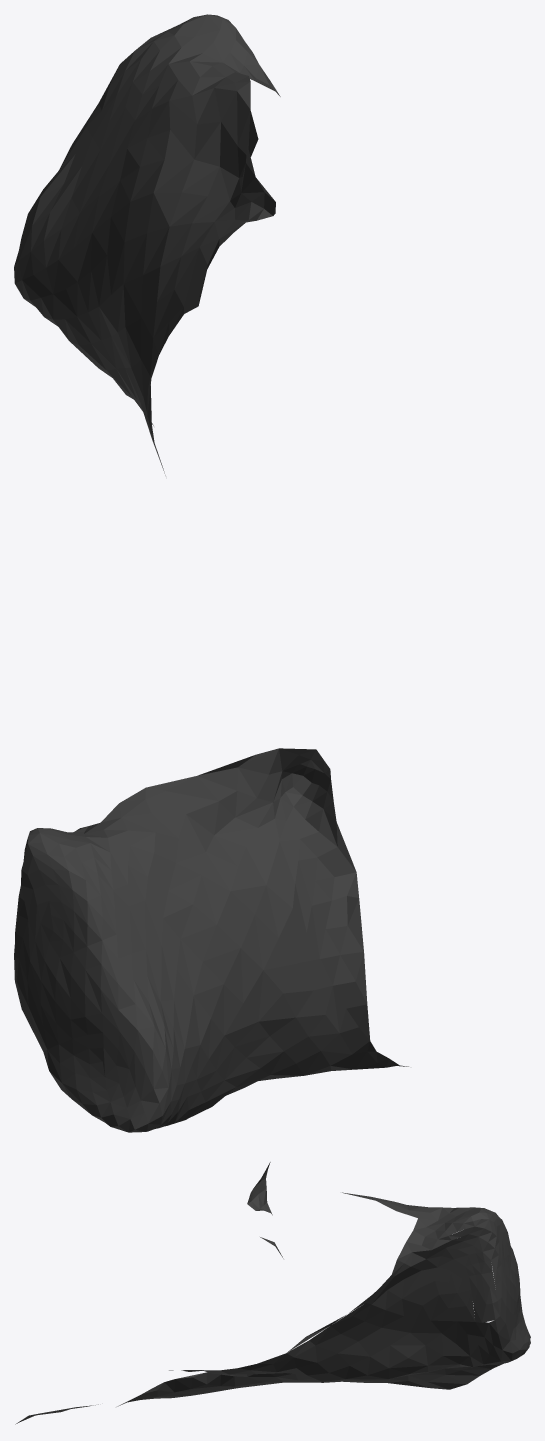
The model's file is ligament_cranial_cruciate_e.glb.
3 renders of one model, top to bottom at view 1: azimuth 30°, elevation 25°; view 2: azimuth 150°, elevation 25°; view 3: azimuth 270°, elevation 25°, orthographic. The views are drawn at different scales.
Visible parts, largest first — view 1: ligament_cranial_cruciate_e; view 2: ligament_cranial_cruciate_e; view 3: ligament_cranial_cruciate_e.
Part boxes in pixels (<box>): ligament_cranial_cruciate_e: <box>14,14,280,475</box>; ligament_cranial_cruciate_e: <box>14,748,408,1132</box>; ligament_cranial_cruciate_e: <box>15,1162,530,1424</box>.
Size of the model in its own units: 0.000869 by 0.00132 by 0.00231.
Materials: 1 (1 with a texture image).
